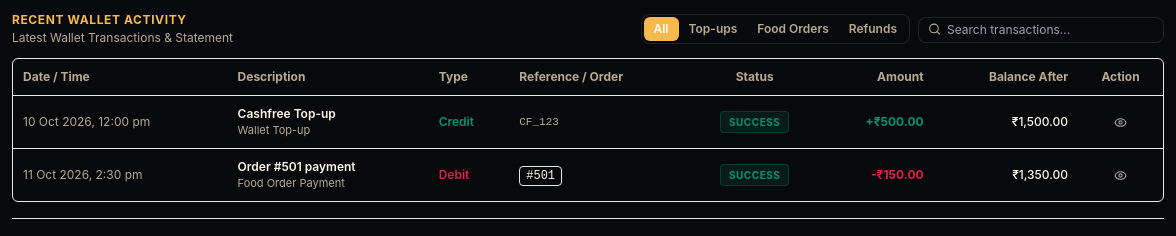
Test case: Tiffzy Customer Wallet Redesign Frontend Test Suite › WalletTransactionTable › filters transactions client-side based on search query
This screenshot has width=1176, height=236.
Type "501" into the field with placeholder "Search transactions...". click: (1041, 30)
box: 918,16 -> 1164,42
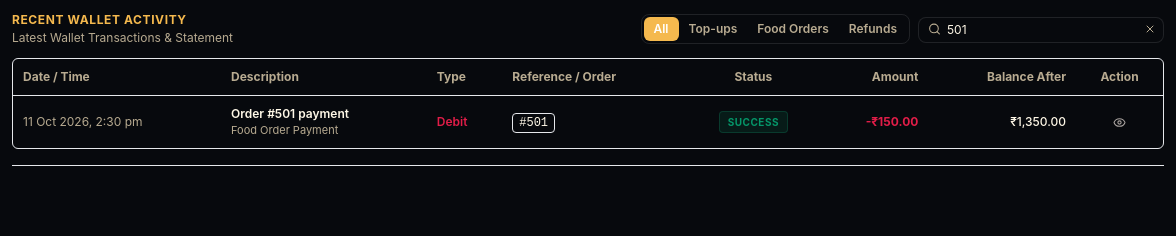
Expected: the text "Order #501 payment" is shown, 231,106 -> 349,121
Result: the text "Cashfree Top-up" is gone
